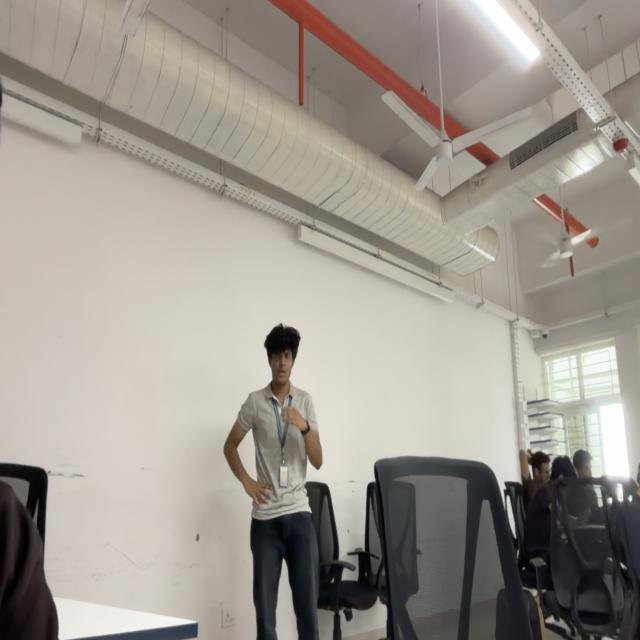kshitij: (265, 328, 300, 385)
